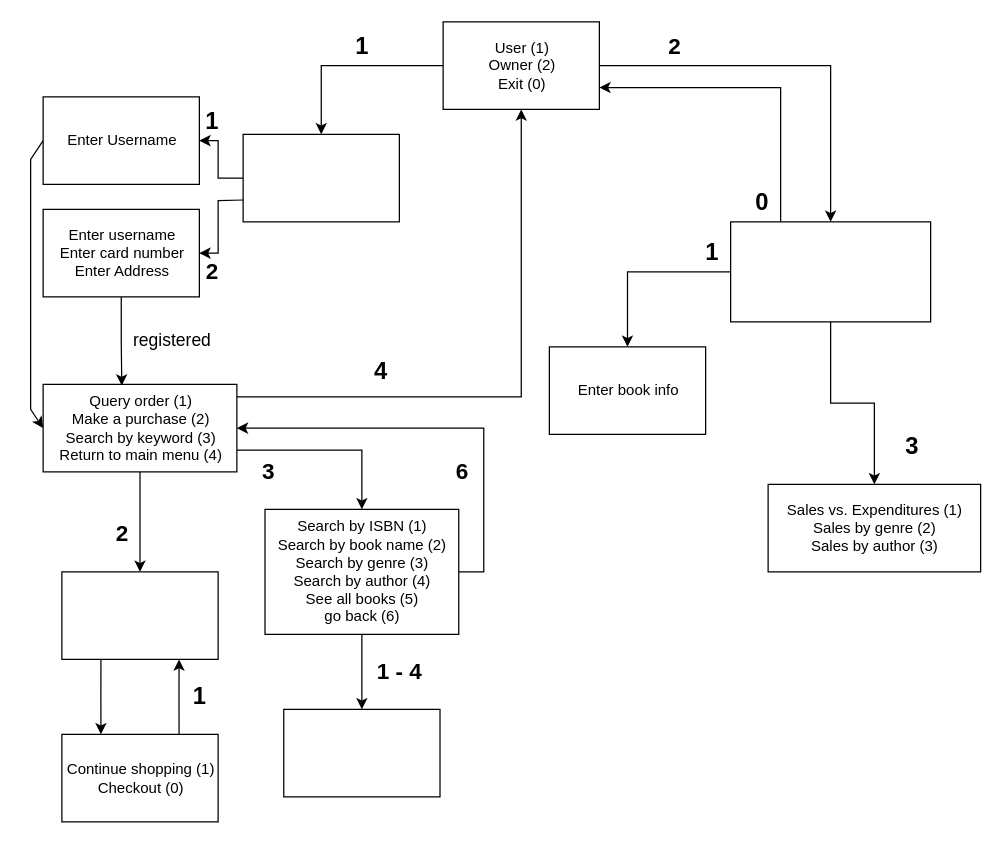
The diagram is 1003 pixels wide and 844 high, and some of its shapes have lost their labels. Each missing label, with the centre of its shape:
"Add a book (1) Remove a book (2) Query Reports (3) Return to main menu (0)" belongs at point (830, 271).
"Enter ISBN Enter Quantity" belongs at point (139, 615).
"Enter keyword" belongs at point (361, 752).
"Login (1) Register (2)" belongs at point (320, 177).
